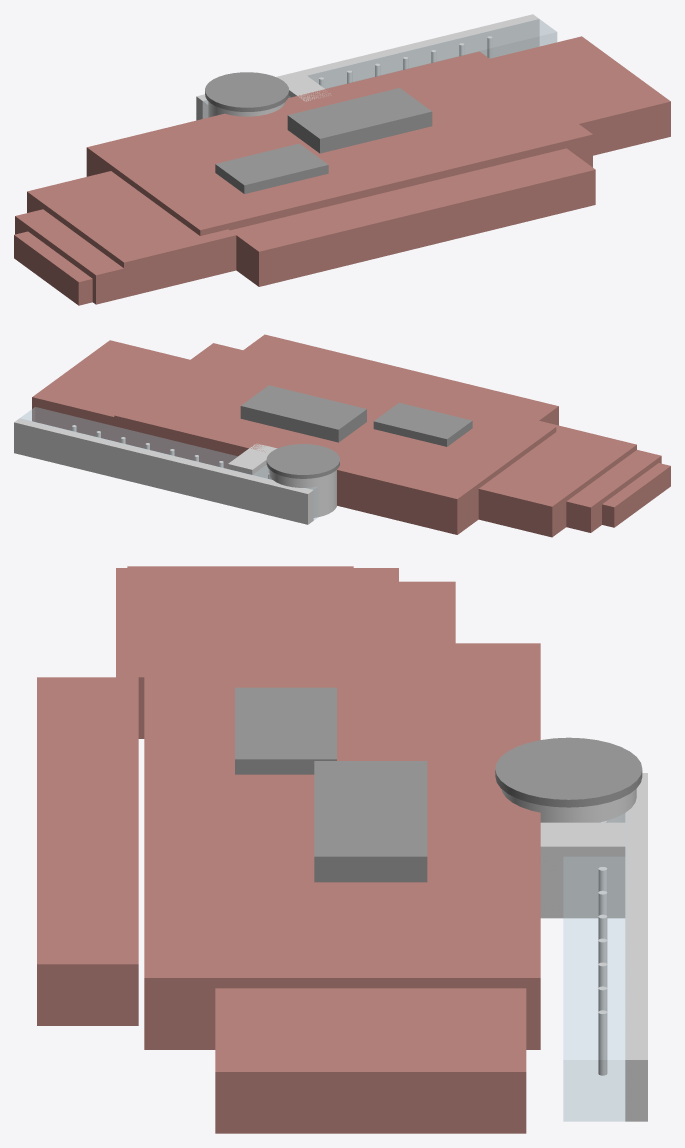
3 renders of one model, top to bottom at view 1: azimuth 30°, elevation 25°; view 2: azimuth 150°, elevation 25°; view 3: azimuth 270°, elevation 25°, orthographic. The views are drawn at different scales.
Parts seen in each view (by area): view 1: MainBlock, NorthService, WestWing1, EastWing, SouthFrame, Mech1, WestWing2, SouthGlassHall, Mech2, WestWing3, RotundaRoof, EntrancePortal (+1 smaller); view 2: MainBlock, SouthFrame, WestWing1, EastWing, NorthService, Mech1, SouthGlassHall, WestWing2, Mech2, WestWing3, RotundaRoof, Rotunda (+1 smaller); view 3: MainBlock, EastWing, NorthService, WestWing1, SouthGlassHall, Mech1, Mech2, RotundaRoof, EntrancePortal, SouthFrame, WestWing2, Rotunda.
Boxes of the visible parts, x1,y1,x2,y2 form: MainBlock: (86, 51, 592, 235); NorthService: (230, 148, 595, 286); WestWing1: (27, 171, 236, 297); EastWing: (490, 36, 670, 155); SouthFrame: (196, 14, 539, 120); Mech1: (287, 88, 432, 153); WestWing2: (15, 209, 180, 304); SouthGlassHall: (202, 19, 556, 118); Mech2: (215, 143, 328, 193); WestWing3: (14, 231, 92, 305); RotundaRoof: (205, 72, 288, 111); EntrancePortal: (277, 71, 331, 101); MainBlock: (114, 343, 556, 534); SouthFrame: (14, 418, 313, 524); WestWing1: (478, 420, 636, 537); EastWing: (32, 340, 189, 440); NorthService: (243, 334, 558, 425); Mech1: (240, 385, 366, 442); SouthGlassHall: (19, 407, 317, 519); WestWing2: (566, 450, 661, 532); Mech2: (373, 403, 472, 446); WestWing3: (602, 463, 670, 527); RotundaRoof: (266, 444, 339, 478); Rotunda: (269, 469, 336, 517); MainBlock: (144, 643, 540, 1049); EastWing: (215, 988, 526, 1133); NorthService: (37, 677, 138, 1025); WestWing1: (116, 581, 455, 738); SouthGlassHall: (563, 812, 630, 1121); Mech1: (314, 761, 427, 882); Mech2: (235, 687, 336, 774); RotundaRoof: (495, 737, 642, 807); EntrancePortal: (540, 822, 625, 918); SouthFrame: (625, 773, 647, 1121); WestWing2: (116, 568, 398, 581); Rotunda: (501, 789, 636, 822).
Size of the model in its own units: 220 by 19 by 108.
